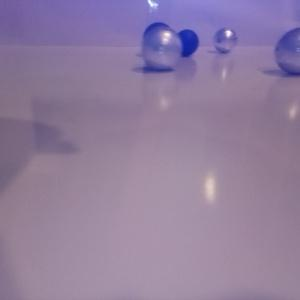alive_ball: (141, 26, 182, 70), (273, 28, 300, 76), (212, 28, 237, 53)
dead_ball: (142, 22, 172, 54), (175, 29, 199, 57)
